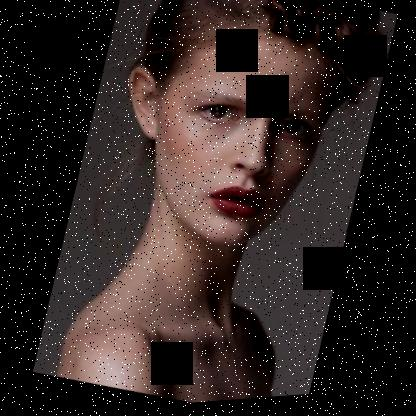Female: (89, 0, 347, 271)
